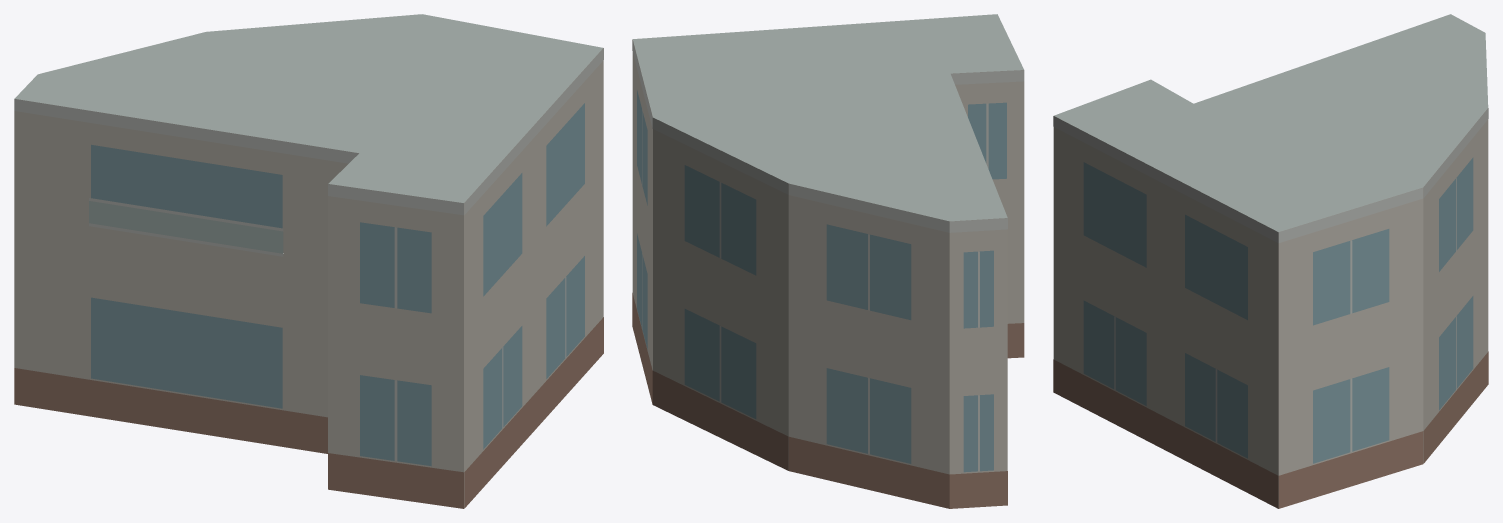
The model's file is survey-upis-32995093.glb.
3 renders of one model, left to right at view 1: azimuth 30°, elevation 25°; view 2: azimuth 150°, elevation 25°; view 3: azimuth 270°, elevation 25°, orthographic. The views are drawn at different scales.
Parts seen in each view (by area): view 1: survey-upis-32995093.tmp; view 2: survey-upis-32995093.tmp; view 3: survey-upis-32995093.tmp.
Boxes of the visible parts, x1,y1,x2,y2 form: survey-upis-32995093.tmp: (14, 14, 603, 508); survey-upis-32995093.tmp: (632, 14, 1024, 508); survey-upis-32995093.tmp: (1053, 14, 1488, 508).
Size of the model in its own units: 10.33 by 6.1 by 8.7.
